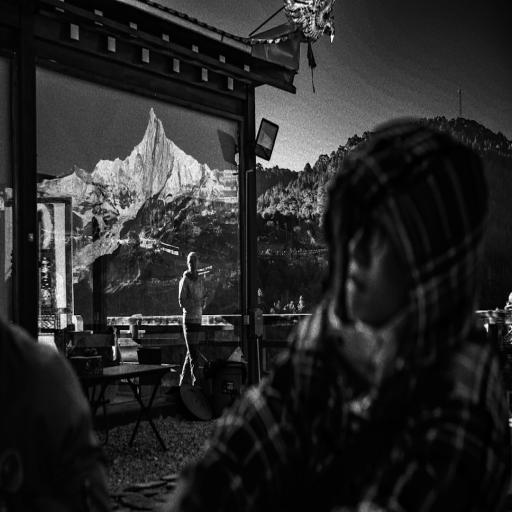face: (345, 218, 409, 327), (188, 256, 199, 274)
